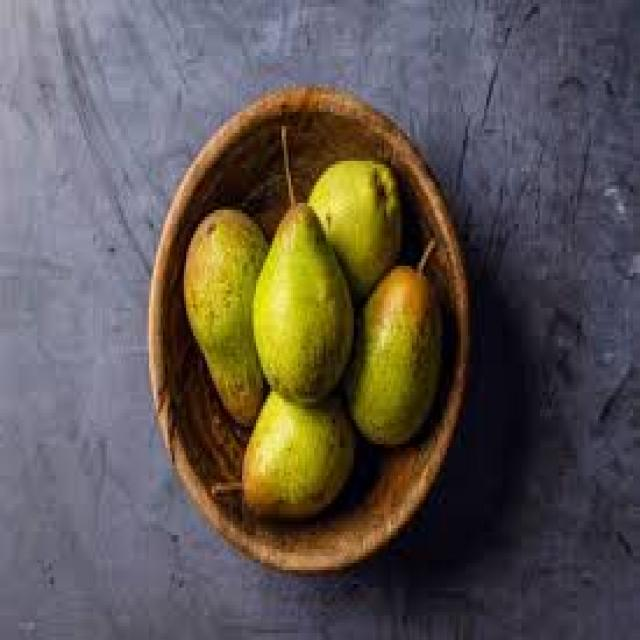organic waste: (249, 122, 351, 402), (338, 234, 438, 441), (207, 384, 354, 518), (182, 206, 266, 424), (305, 154, 398, 297)
